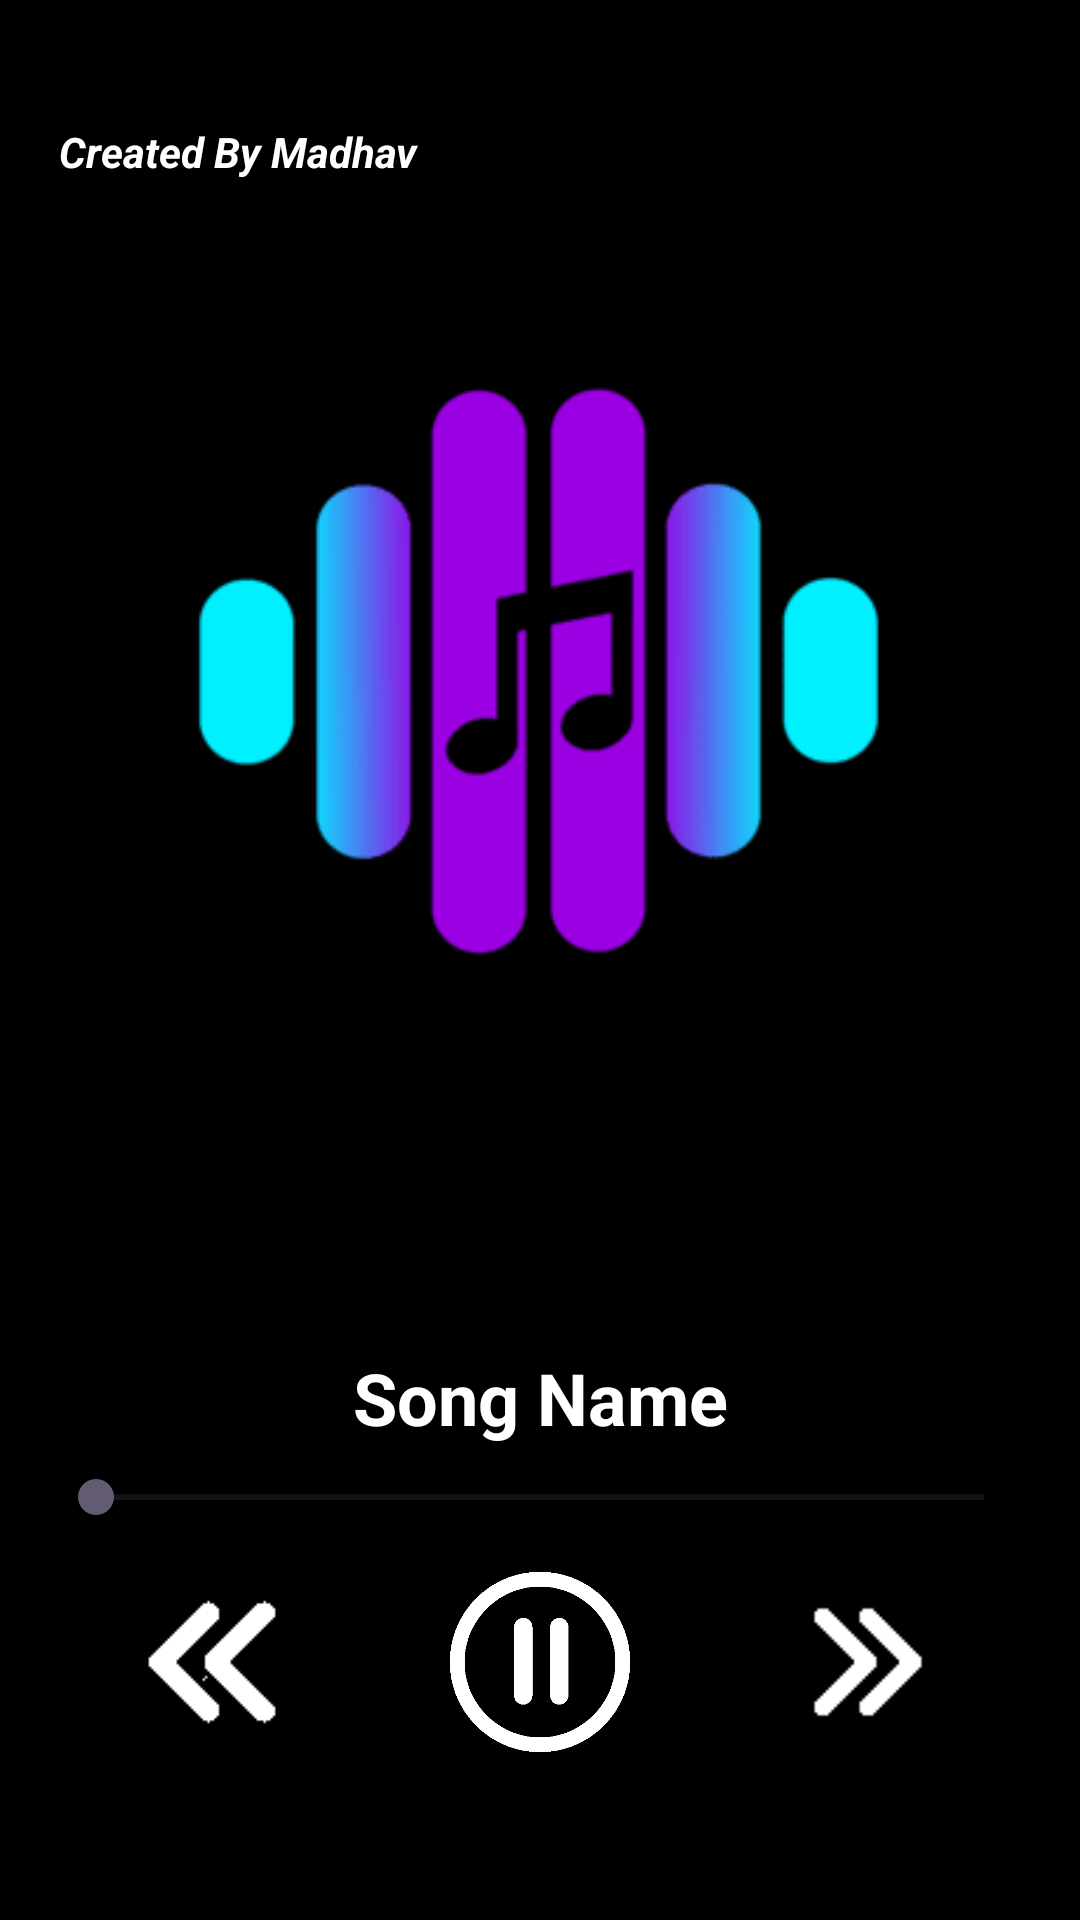

Screen size 1080x1920. Icon name, then its box in pixels as [x1, y1, x2, y2]:
nextt: [813, 1607, 923, 1717]
pausee: [450, 1572, 630, 1752]
prev: [148, 1600, 276, 1724]
